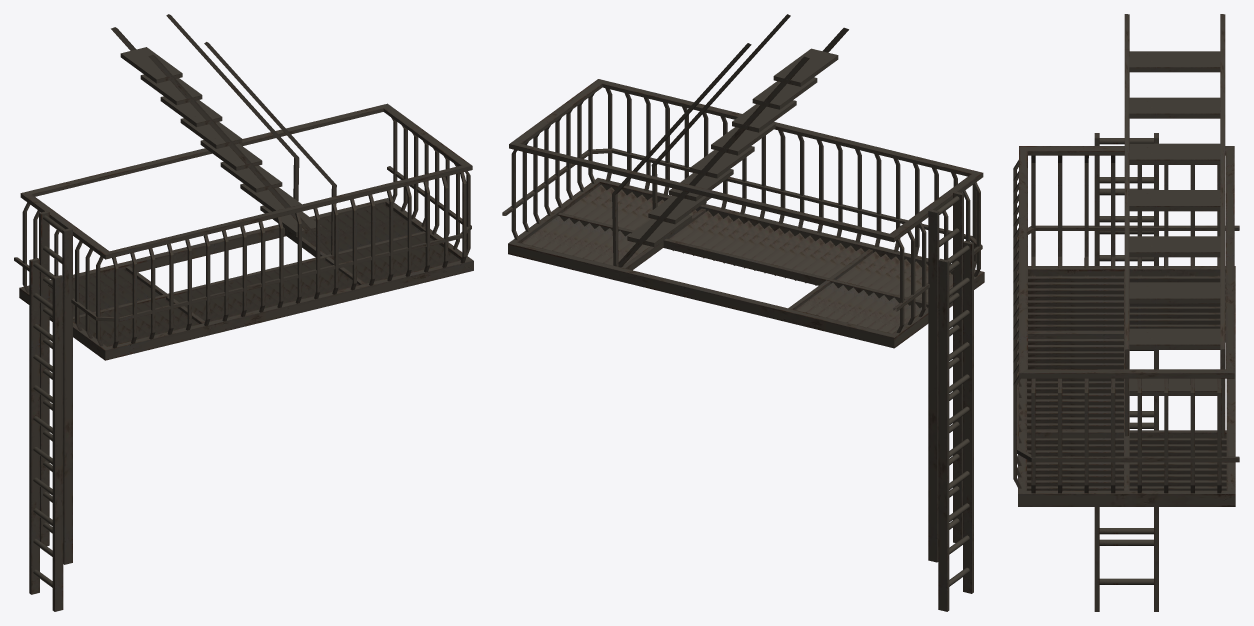
Rendered from Prop_FireEscape_Bottom.glb.
3 views of the same model, side by side, from view 1: azimuth 30°, elevation 25°; view 2: azimuth 150°, elevation 25°; view 3: azimuth 270°, elevation 25° (orthographic). The views are drawn at different scales.
Visible parts, largest first — view 1: Prop_FireEscape_Bottom; view 2: Prop_FireEscape_Bottom; view 3: Prop_FireEscape_Bottom.
Part boxes in pixels (<box>): Prop_FireEscape_Bottom: <box>14,14,473,611</box>; Prop_FireEscape_Bottom: <box>502,14,984,611</box>; Prop_FireEscape_Bottom: <box>1013,14,1239,611</box>.
Bounding box in the file's own units: 5.01 × 6.35 × 1.98.
Materials: 1 (1 with a texture image).
